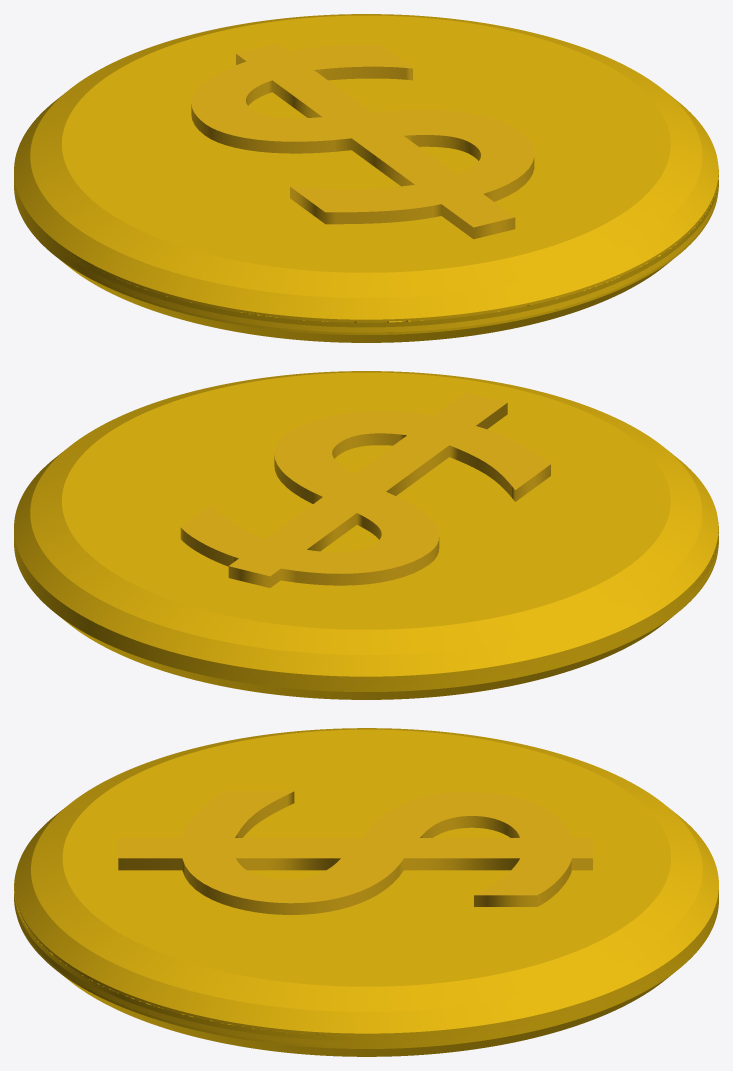
The model's file is coin.fbx.
3 renders of one model, top to bottom at view 1: azimuth 30°, elevation 25°; view 2: azimuth 150°, elevation 25°; view 3: azimuth 270°, elevation 25°, orthographic.
Parts seen in each view (by area): view 1: Cylinder, Text, Coin; view 2: Cylinder, Text, Coin; view 3: Cylinder, Text, Coin.
Part boxes in pixels (x1,y1,x2,y2): Cylinder: (14, 14, 718, 332); Text: (191, 43, 534, 239); Coin: (14, 166, 718, 342); Cylinder: (14, 371, 718, 684); Text: (180, 392, 550, 587); Coin: (14, 523, 718, 699); Cylinder: (14, 728, 718, 1046); Text: (118, 791, 592, 914); Coin: (14, 872, 718, 1056).
Bounding box in the file's own units: 60 × 8.63 × 60.06.
